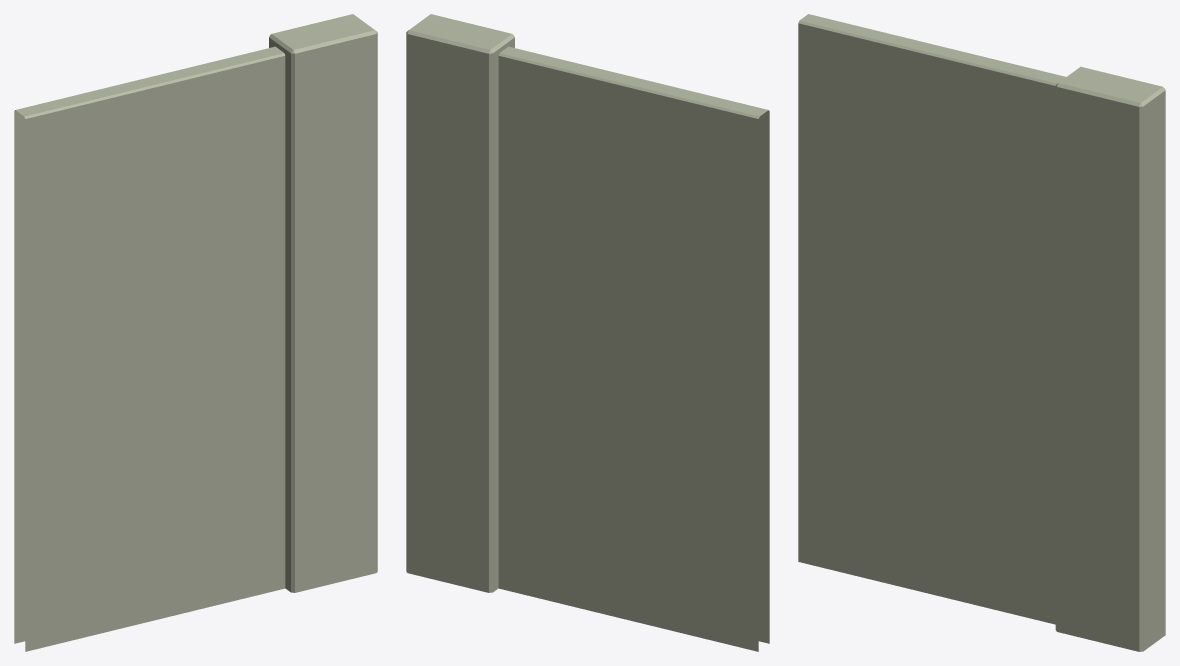
File: Wall.fbx
3 renders of one model, left to right at view 1: azimuth 30°, elevation 25°; view 2: azimuth 150°, elevation 25°; view 3: azimuth 330°, elevation 25°, orthographic.
Parts seen in each view (by area): view 1: Cube.012; view 2: Cube.012; view 3: Cube.012.
Boxes of the visible parts, x1,y1,x2,y2 form: Cube.012: [14, 14, 377, 651]; Cube.012: [406, 14, 769, 651]; Cube.012: [798, 14, 1165, 651].
Bounding box in the file's own units: 2000 × 2985 × 250.
